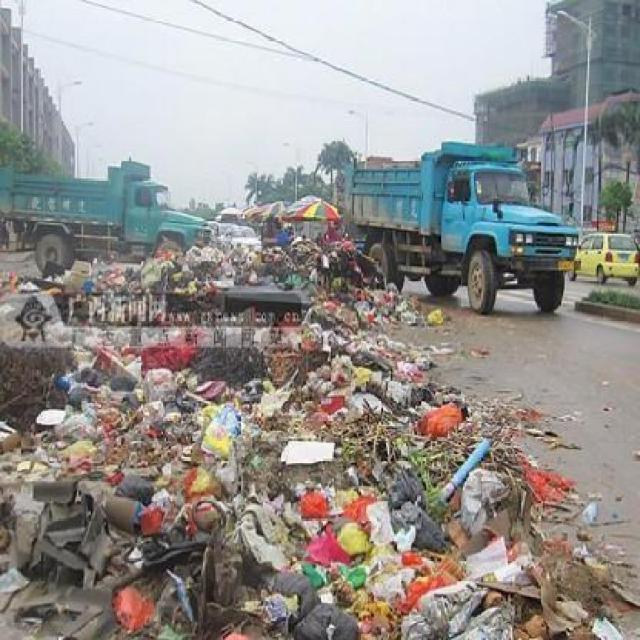garbage: (0, 343, 631, 638), (3, 262, 296, 290), (302, 288, 436, 344)
